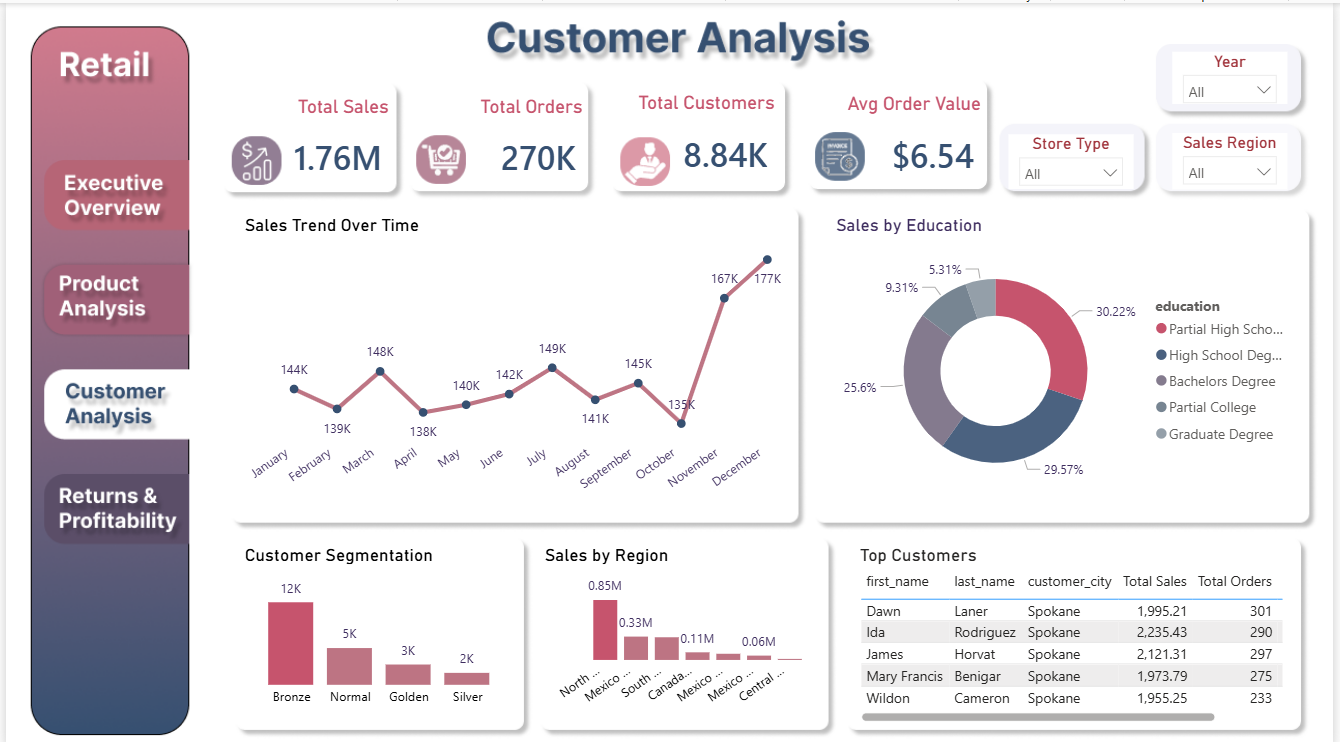

The page's visual inventory and layout, read from the dashboard file:
{"tool":"powerbi","page":{"name":"Sales & Customer Analysis ","canvas":[1280,720],"ordinal":2},"visuals":[{"type":"donutChart","title":"Sales by Education","fields":{"Y":["Measure.Total Sales"],"Category":["dimcustomer.education"]},"box":[795.8,203.7,451,283.7],"z":0},{"type":"tableEx","title":"Top Customers","fields":{"Values":["dimcustomer.first_name","dimcustomer.last_name","dimcustomer.customer_city","Measure.Total Sales","Measure.Total Orders","dimcustomer.customer_id"]},"box":[819.1,522.3,417.6,176],"z":1000},{"type":"slicer","title":"Year","fields":{"Values":["dimdate.date_id.Variation.Date Hierarchy.Year","dimdate.date_id.Variation.Date Hierarchy.Quarter"]},"box":[1125.6,47.1,111,50.7],"z":3000},{"type":"slicer","title":"Sales Region","fields":{"Values":["dimproduct.product_brand"]},"box":[1125.6,125.5,111,54.3],"z":4000},{"type":"slicer","title":"Store Type","fields":{"Values":["dimstore.store_type"]},"box":[967.6,126.7,120.6,53.1],"z":5000},{"type":"cardVisual","title":"Total Sales","fields":{"Data":["Measure.Total Sales"]},"box":[244.4,88.7,129.5,93.1],"z":6000},{"type":"cardVisual","title":"Total Orders","fields":{"Data":["Measure.Total Orders"]},"box":[432.1,88.7,129.5,93.1],"z":7000},{"type":"cardVisual","title":"Total Customers  ","fields":{"Data":["Measure.Total Customers"]},"box":[589.9,85.7,156.8,94.1],"z":8000},{"type":"cardVisual","title":"Avg Order Value","fields":{"Data":["Measure.Average Order Value"]},"box":[785.4,86.9,160.5,94.1],"z":9000},{"type":"columnChart","title":"Customer Segmentation","fields":{"Y":["Measure.Total Sales"],"Category":["dimcustomer.member_card"]},"box":[225.5,522.3,270.6,165.9],"z":10000},{"type":"columnChart","title":"Sales by Region","fields":{"Y":["Measure.Total Sales"],"Category":["dimregion.sales_region"]},"box":[515,522.3,270.6,165.9],"z":11000},{"type":"lineChart","title":"Sales Trend Over Time","fields":{"Category":["dimdate.date_id.Variation.Date Hierarchy.Month"],"Y":["Measure.Total Sales"]},"box":[225.5,203.7,531,288.1],"z":12000}]}

Visuals, with their boxes in screenshot pixels (x1, y1, x2, y2), scaled from the page's 1280x720 canvas onto the 1340x742 screenshot:
"Sales by Education" donutChart: select_region(833, 210, 1305, 502)
"Top Customers" tableEx: select_region(857, 538, 1295, 720)
"Year" slicer: select_region(1178, 49, 1295, 101)
"Sales Region" slicer: select_region(1178, 129, 1295, 185)
"Store Type" slicer: select_region(1013, 131, 1139, 185)
"Total Sales" cardVisual: select_region(256, 91, 391, 187)
"Total Orders" cardVisual: select_region(452, 91, 588, 187)
"Total Customers  " cardVisual: select_region(618, 88, 782, 185)
"Avg Order Value" cardVisual: select_region(822, 90, 990, 187)
"Customer Segmentation" columnChart: select_region(236, 538, 519, 709)
"Sales by Region" columnChart: select_region(539, 538, 822, 709)
"Sales Trend Over Time" lineChart: select_region(236, 210, 792, 507)
